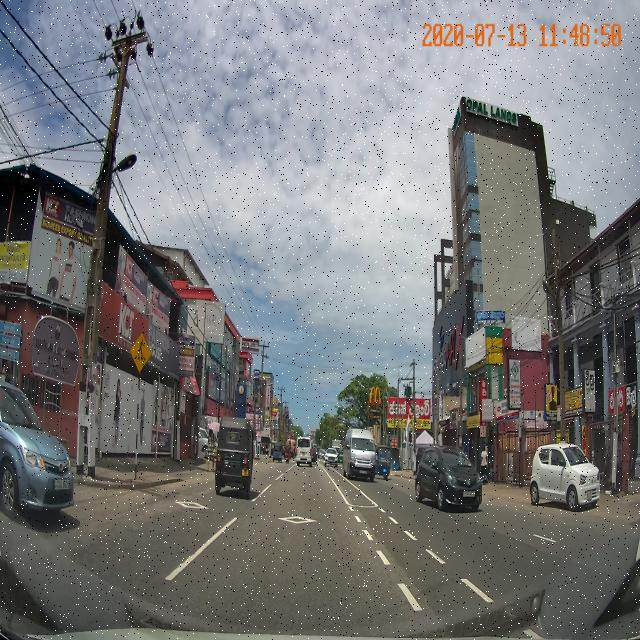diamond: (201, 505, 385, 553)
